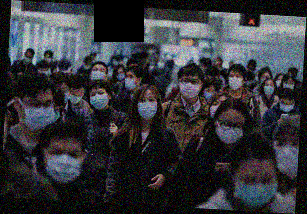with_mask: (233, 169, 277, 210), (44, 145, 81, 185), (21, 96, 55, 131), (274, 135, 299, 178), (216, 117, 244, 145), (136, 95, 158, 119), (180, 76, 201, 100), (89, 88, 110, 110), (228, 72, 244, 92), (124, 72, 138, 92), (69, 91, 85, 106), (90, 66, 105, 82), (280, 99, 295, 113), (264, 82, 277, 97), (203, 87, 216, 102), (283, 81, 295, 91), (115, 69, 125, 80)
